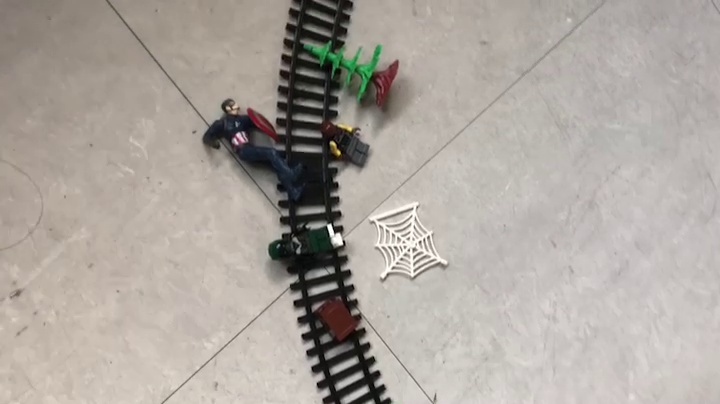box: (312, 296, 354, 341)
people: (203, 98, 313, 203), (270, 223, 346, 269), (319, 119, 372, 169)
tree: (298, 38, 407, 108)
web: (368, 202, 449, 283)
